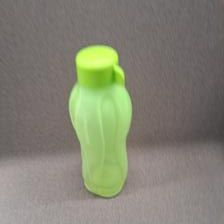bottle: (70, 41, 133, 199)
